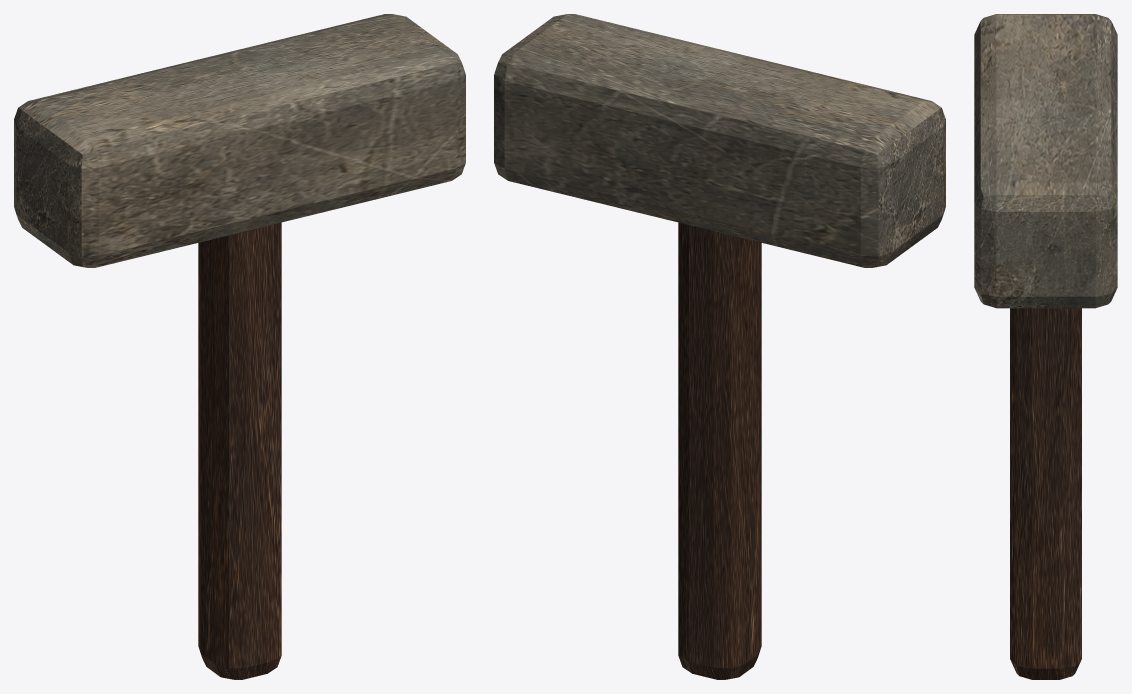
File: hand_hammer.glb
The picture shows the model from 3 angles, left to right: view 1: azimuth 30°, elevation 25°; view 2: azimuth 150°, elevation 25°; view 3: azimuth 270°, elevation 25°; orthographic projection. The views are drawn at different scales.
Parts seen in each view (by area): view 1: Hammer head; view 2: Hammer head; view 3: Hammer head.
Boxes of the visible parts, x1=… form: Hammer head: x1=14, y1=14, x2=465, y2=679; Hammer head: x1=494, y1=14, x2=945, y2=679; Hammer head: x1=974, y1=14, x2=1117, y2=679.
Size of the model in its own units: 0.16 by 0.23 by 0.052.
Materials: 2 (2 with a texture image).
